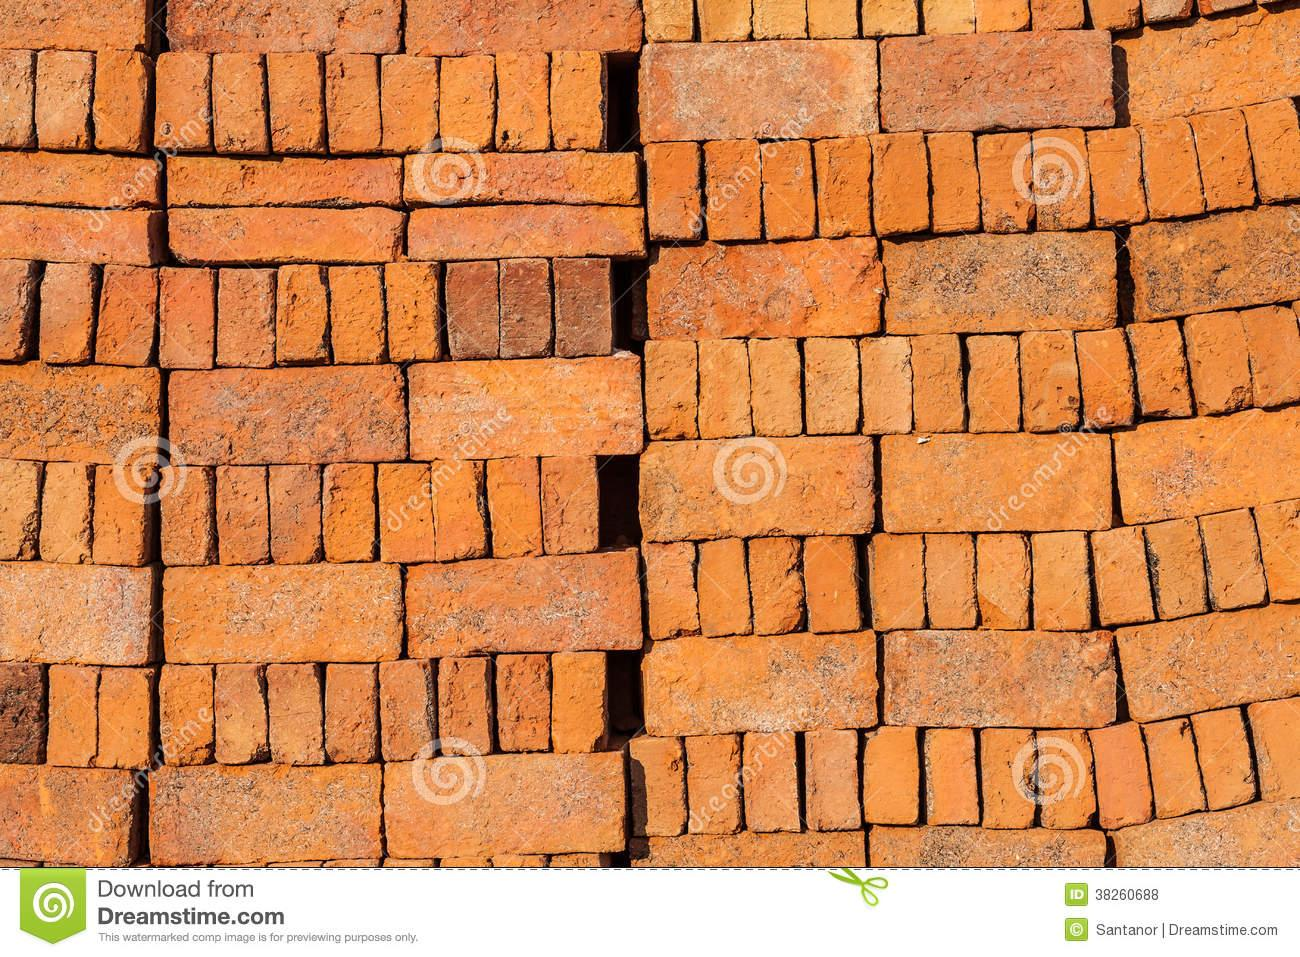brick: (405, 549, 643, 658), (384, 751, 626, 857), (639, 40, 878, 144), (639, 436, 876, 540), (641, 630, 879, 733), (882, 230, 1117, 334), (647, 236, 886, 338), (168, 364, 407, 466), (162, 562, 404, 663), (408, 357, 642, 460), (148, 763, 381, 865), (881, 30, 1115, 131), (881, 431, 1111, 532), (884, 631, 1117, 727), (1114, 5, 1300, 125), (1112, 407, 1300, 524), (1116, 604, 1300, 723), (1126, 204, 1300, 322), (0, 360, 159, 464), (0, 561, 150, 665), (1, 764, 133, 867), (1106, 797, 1300, 867), (407, 205, 647, 260), (168, 207, 407, 262), (404, 150, 640, 205), (404, 0, 642, 54), (166, 0, 402, 54), (167, 156, 403, 207), (869, 826, 1106, 867), (0, 206, 150, 265), (0, 151, 157, 208), (631, 831, 865, 866), (1186, 109, 1257, 211), (1184, 311, 1253, 415), (1198, 508, 1267, 611), (1, 0, 145, 48), (1088, 721, 1152, 829), (1137, 117, 1205, 218), (1145, 516, 1208, 619), (1142, 719, 1205, 818), (1091, 525, 1154, 625), (869, 132, 929, 237), (1126, 320, 1192, 415), (1191, 708, 1252, 810), (95, 265, 156, 365), (1242, 98, 1300, 203), (1240, 305, 1300, 406), (1087, 126, 1147, 226), (702, 139, 762, 239), (1076, 327, 1135, 427), (1019, 331, 1079, 431), (267, 52, 326, 153), (1037, 730, 1096, 829), (553, 257, 612, 357), (1032, 531, 1090, 631), (1033, 128, 1089, 231), (977, 132, 1035, 233), (743, 731, 800, 832), (217, 269, 276, 367), (550, 49, 608, 149), (378, 658, 434, 761), (266, 663, 323, 764), (382, 55, 439, 153), (814, 136, 871, 235), (486, 457, 543, 557), (644, 142, 701, 240), (431, 460, 486, 561), (642, 542, 699, 639), (326, 54, 382, 153), (97, 668, 152, 768), (805, 730, 861, 830), (35, 50, 92, 148), (159, 267, 214, 367), (541, 456, 598, 553), (377, 464, 434, 561), (868, 533, 925, 630), (630, 738, 686, 835), (1248, 698, 1300, 802), (212, 52, 266, 152), (93, 465, 147, 565), (158, 665, 213, 765), (981, 729, 1036, 829), (749, 537, 804, 635), (803, 536, 860, 632), (386, 262, 440, 361), (160, 466, 215, 565), (697, 538, 752, 637), (686, 735, 741, 834), (328, 265, 384, 362), (94, 50, 146, 152), (47, 665, 100, 767), (864, 726, 918, 824), (804, 337, 860, 433), (552, 652, 605, 753), (761, 140, 815, 239), (445, 261, 499, 360), (748, 337, 801, 436), (216, 465, 269, 564), (496, 55, 550, 151), (966, 335, 1020, 432), (496, 654, 550, 751), (154, 51, 210, 146), (500, 258, 552, 358), (40, 263, 93, 363), (699, 339, 752, 439), (39, 463, 92, 563), (910, 334, 964, 432), (645, 340, 697, 439), (323, 463, 375, 562), (438, 657, 491, 756), (440, 56, 495, 150), (924, 729, 978, 824), (215, 663, 266, 763), (859, 336, 911, 434), (277, 264, 327, 365), (268, 464, 320, 563), (977, 534, 1031, 629), (928, 132, 979, 230), (325, 664, 376, 762), (925, 535, 977, 629), (1255, 499, 1300, 603), (0, 662, 42, 764), (0, 459, 42, 557), (0, 259, 35, 362), (0, 49, 34, 148), (697, 0, 751, 42), (643, 0, 693, 41), (863, 0, 918, 36), (753, 0, 805, 38), (807, 0, 858, 37), (974, 0, 1030, 33), (923, 0, 974, 34), (1032, 0, 1084, 30), (1088, 0, 1140, 29)
